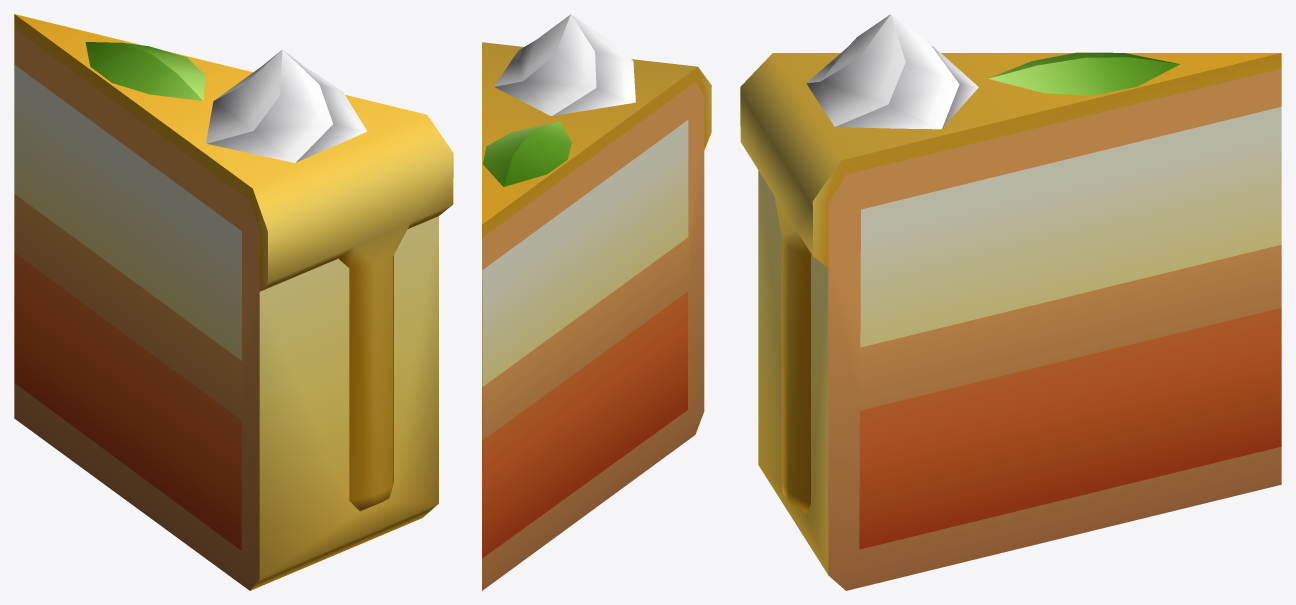
The model's file is m_LemonCake01_Slice03.fbx.
3 renders of one model, left to right at view 1: azimuth 30°, elevation 25°; view 2: azimuth 150°, elevation 25°; view 3: azimuth 270°, elevation 25°, orthographic. The views are drawn at different scales.
Parts seen in each view (by area): view 1: m_LemonCake01_Slice03; view 2: m_LemonCake01_Slice03; view 3: m_LemonCake01_Slice03.
Part boxes in pixels (x1,y1,x2,y2): m_LemonCake01_Slice03: (14,14,453,590); m_LemonCake01_Slice03: (482,14,711,590); m_LemonCake01_Slice03: (740,14,1281,590).
Bounding box in the file's own units: 6.52 × 13.68 × 13.04.
